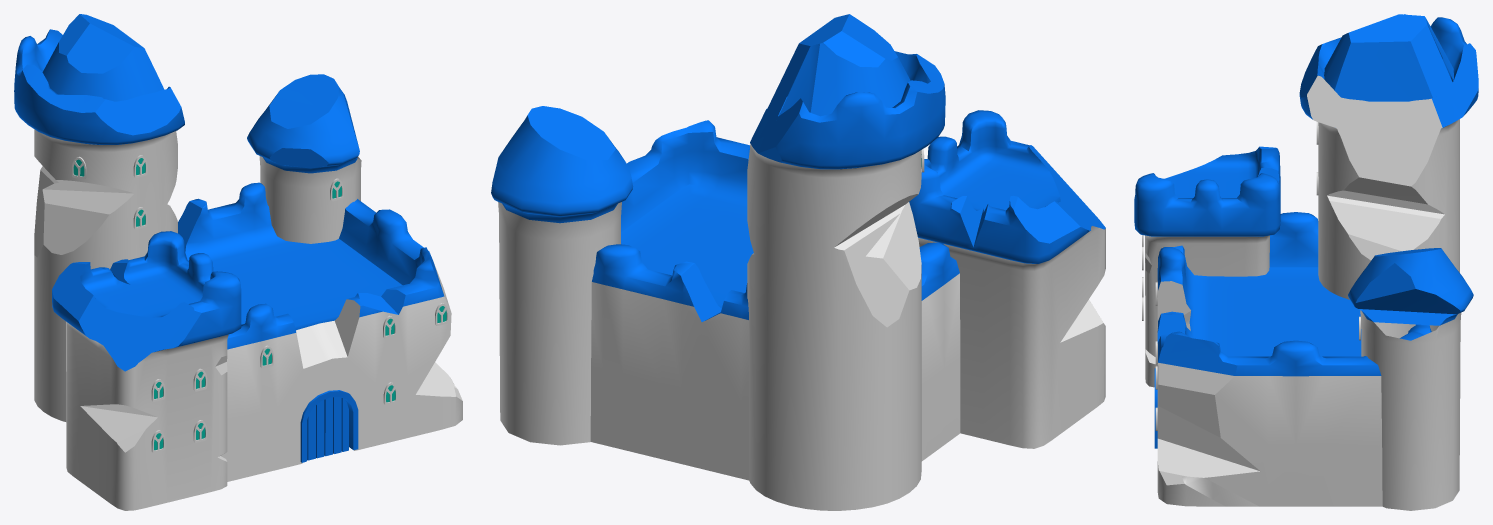
The model's file is CS_Small_Castle_Stage02.fbx.
3 renders of one model, left to right at view 1: azimuth 30°, elevation 25°; view 2: azimuth 150°, elevation 25°; view 3: azimuth 270°, elevation 25°, orthographic. The views are drawn at different scales.
Visible parts, largest first — view 1: Small_Castle_Stage2; view 2: Small_Castle_Stage2; view 3: Small_Castle_Stage2.
Part boxes in pixels (x1,y1,x2,y2): Small_Castle_Stage2: (14,14,462,510); Small_Castle_Stage2: (491,14,1105,510); Small_Castle_Stage2: (1134,14,1478,510).
Bounding box in the file's own units: 655 × 624 × 528.
